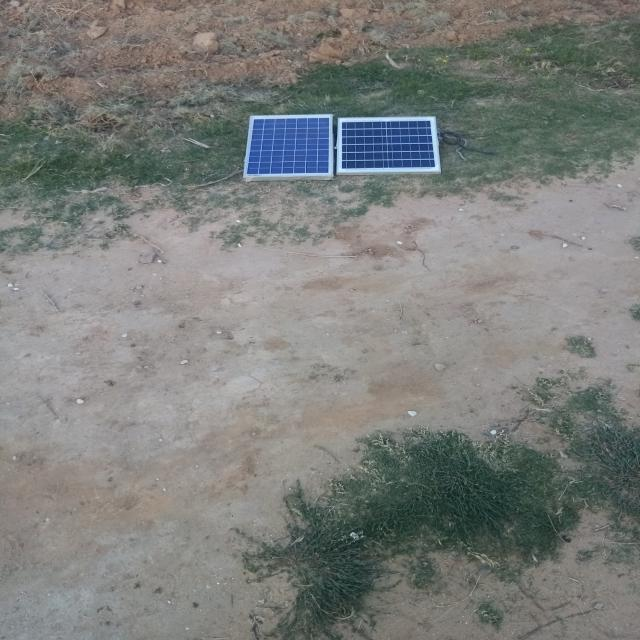no faulty: (338, 117, 441, 172), (245, 116, 332, 177)
